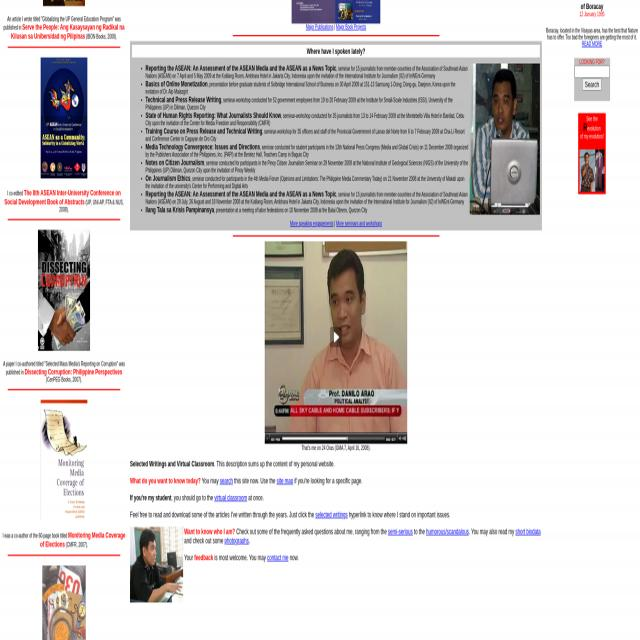button: (264, 241, 408, 445), (470, 64, 540, 214), (38, 230, 90, 351), (41, 400, 87, 521), (41, 58, 87, 178), (130, 527, 183, 602), (42, 564, 86, 640), (579, 149, 595, 192), (595, 149, 605, 192), (330, 326, 342, 347), (582, 78, 602, 90), (397, 434, 407, 444), (265, 433, 269, 443)
field: (574, 65, 610, 78)
